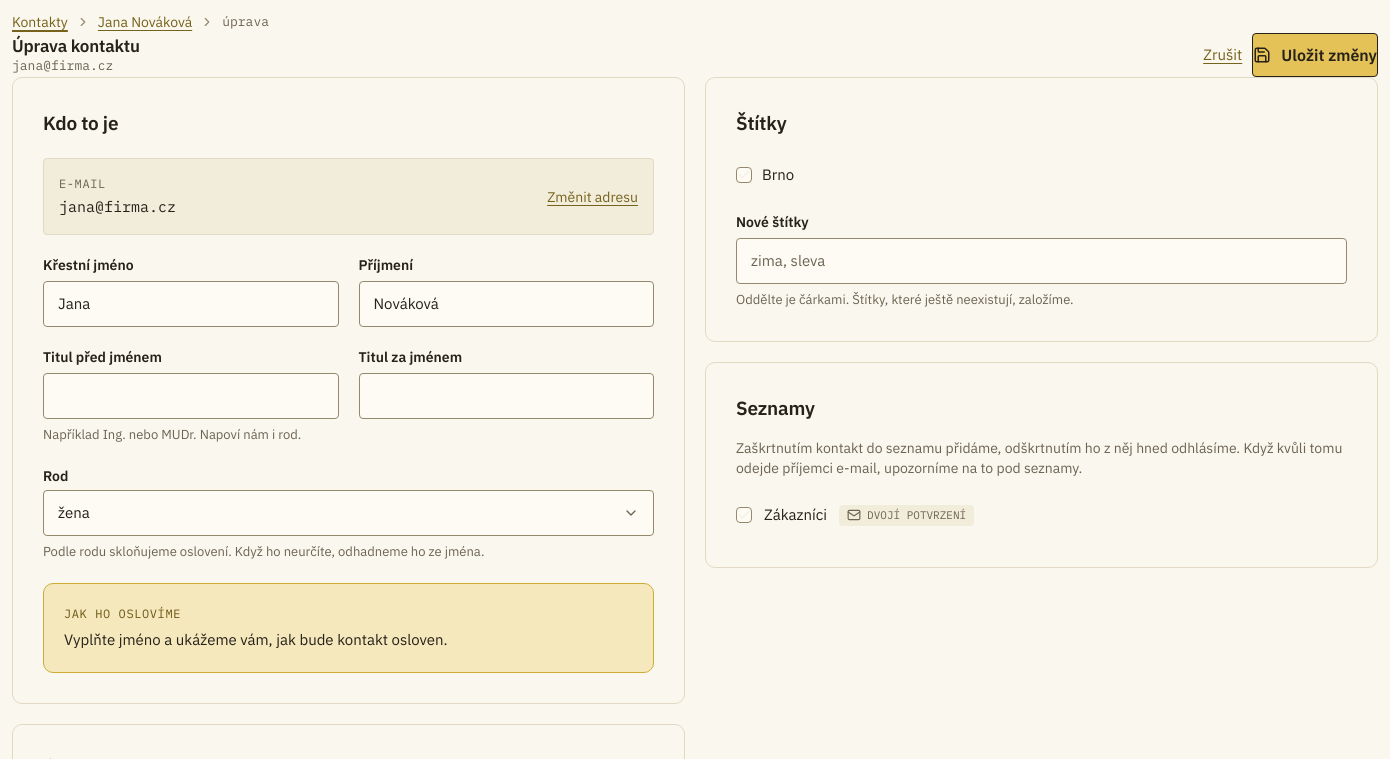
Test case: ContactForm › po změně jména si vyžádá nový náhled oslovení a ukáže ho
Replace the text in the field labelled "Křestní jméno" with "Ondřej" at (191, 304), box [43,281,338,327]
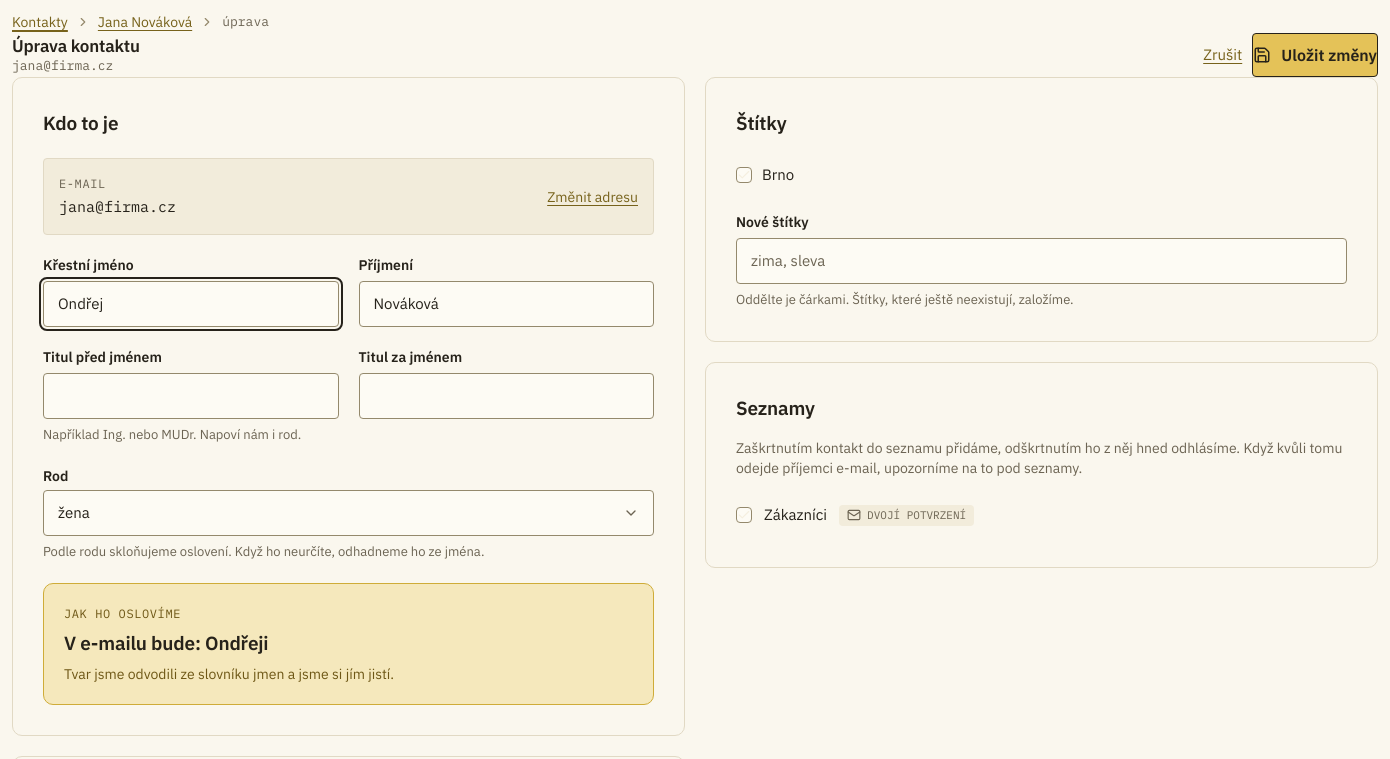
Check: the text "V e-mailu bude: Ondřeji" is shown, box [64,631,268,655]
